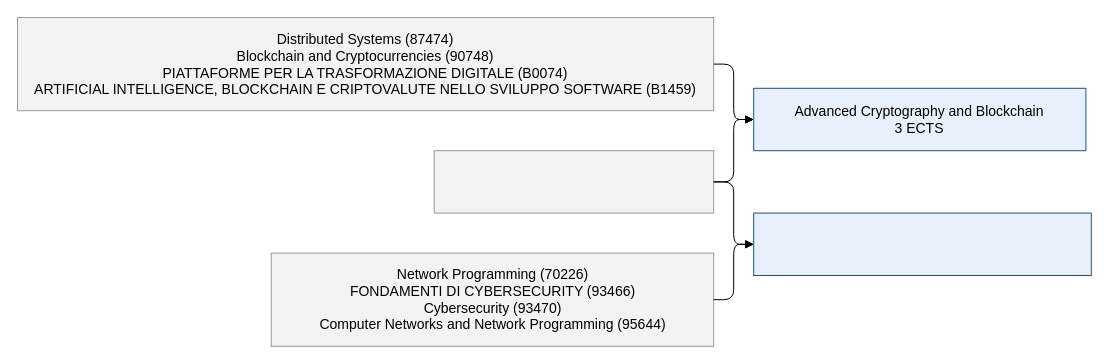
This 1109x364 diagram has some shape labels left out. Here are the shapes that lost their labels. From the top down, the centre of each, then its label:
At (573,181): "Cryptography (14015) Information Security M (72942)".
At (922,244): "Cryptographic Trust and Authentication 3 ECTS".
